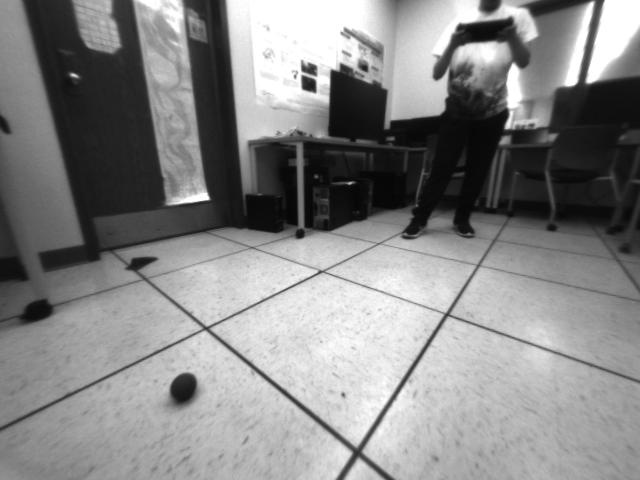dogtoy: (163, 363, 202, 412)
